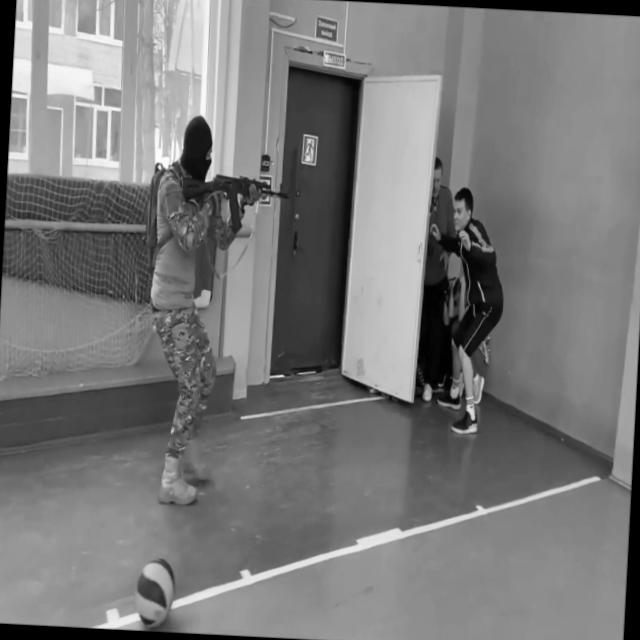gun: (177, 168, 293, 241)
person: (421, 186, 508, 434), (417, 158, 458, 402)
person with a gun: (134, 112, 296, 510)
